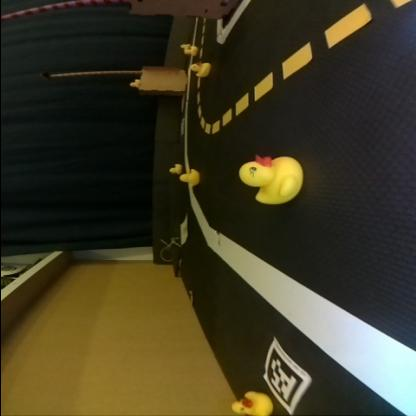Duckie: (238, 156, 298, 201), (231, 392, 267, 412), (178, 170, 198, 186), (188, 61, 208, 76), (170, 162, 182, 174), (184, 46, 194, 54), (128, 78, 134, 86)
QR code: (265, 344, 309, 414)
